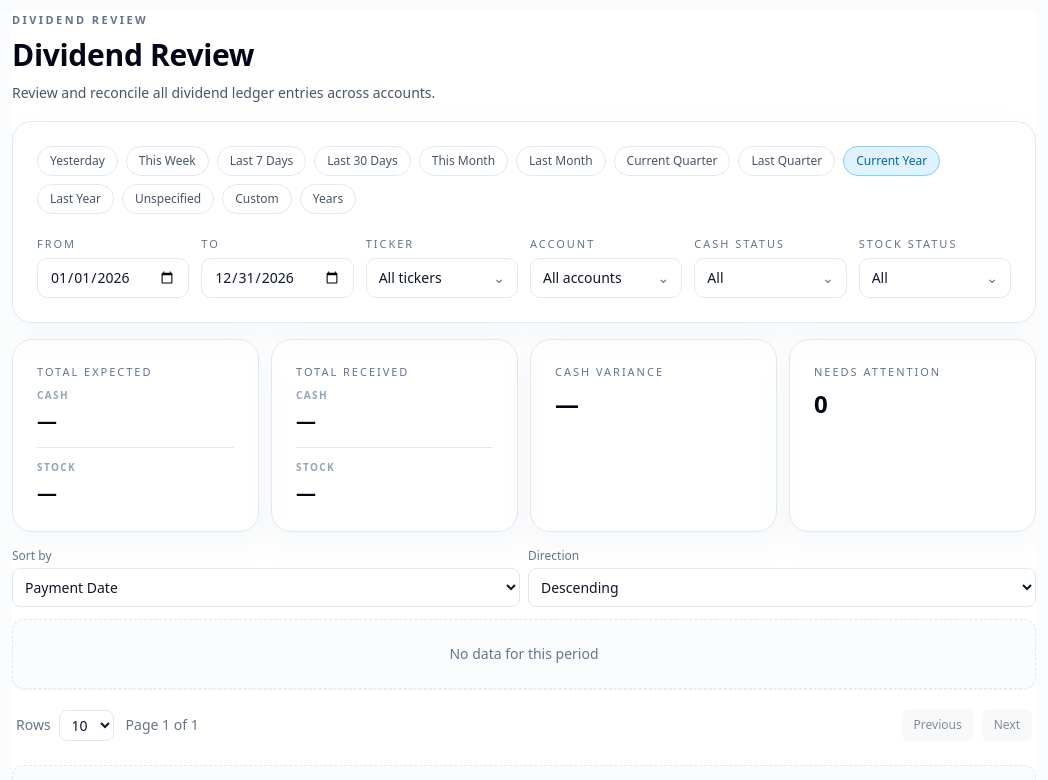
Test: DividendReviewClient › resets mobile sort direction to ascending when selecting an inactive field
Select "Ticker" in the dropdown with test id "review-mobile-sort-field" at {"x": 266, "y": 588}, box [12, 568, 520, 607]
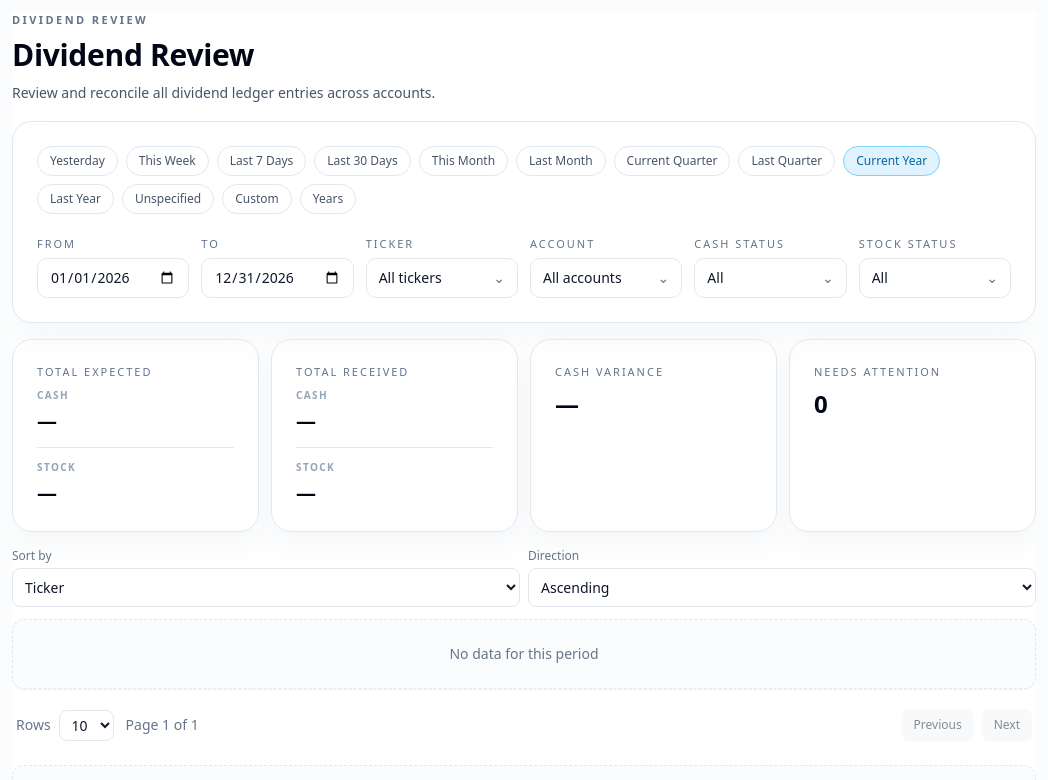
Now the dropdown with test id "review-mobile-sort-direction" shows "Ascending", box [528, 568, 1036, 607]
